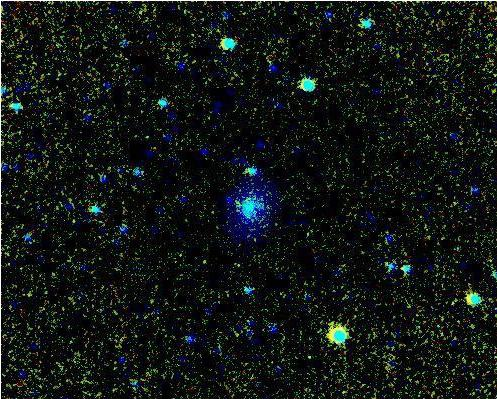star: (216, 186, 246, 216)
